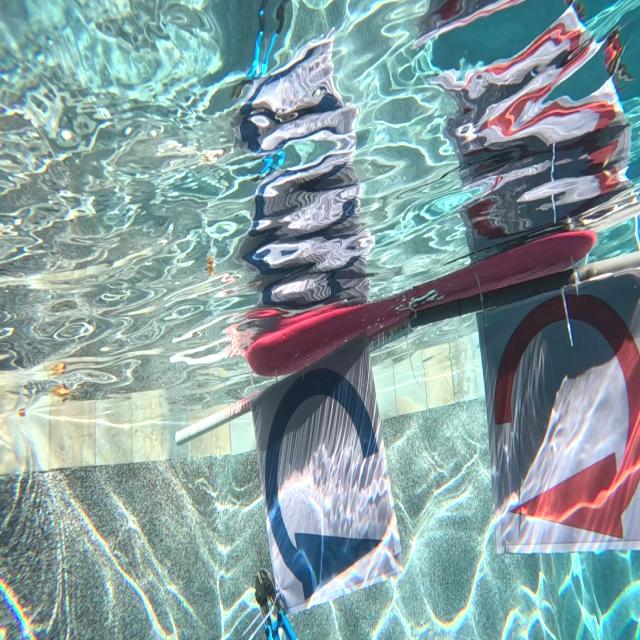blue_side: (267, 372, 385, 602)
red_side: (496, 300, 638, 548)
